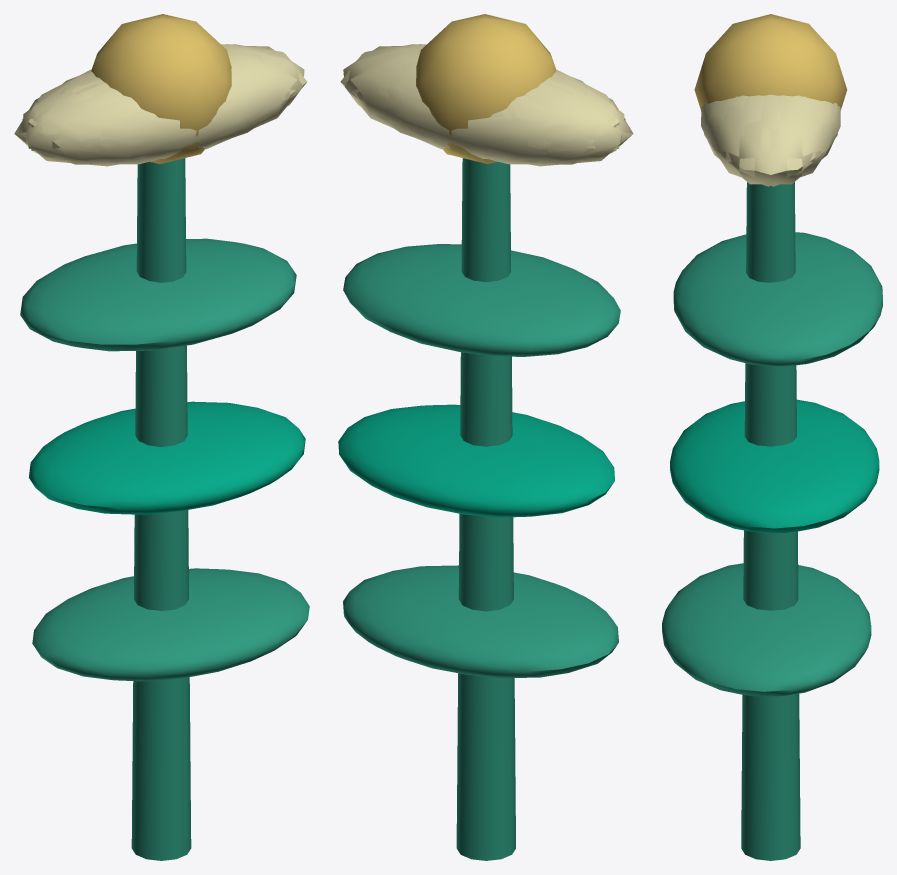
The model's file is maesa-perlarius.glb.
The picture shows the model from 3 angles, left to right: view 1: azimuth 30°, elevation 25°; view 2: azimuth 150°, elevation 25°; view 3: azimuth 270°, elevation 25°; orthographic projection.
Parts seen in each view (by area): view 1: stem, leaf2, leaf0, leaf1, center, petal6, petal2, petal1, petal5, petal7, petal0; view 2: stem, leaf2, leaf1, leaf0, center, petal3, petal7, petal8, petal4, petal2, petal0; view 3: stem, leaf2, leaf1, leaf0, center, petal0, petal5, petal4, petal8, petal1.
Part boxes in pixels (bbox=[...]): stem: bbox=[131, 158, 191, 860]; leaf2: bbox=[20, 238, 296, 351]; leaf0: bbox=[32, 568, 309, 681]; leaf1: bbox=[29, 401, 305, 514]; center: bbox=[91, 14, 231, 163]; petal6: bbox=[31, 82, 218, 164]; petal2: bbox=[23, 77, 167, 166]; petal1: bbox=[97, 62, 290, 162]; petal5: bbox=[156, 52, 307, 155]; petal7: bbox=[14, 71, 109, 157]; petal0: bbox=[225, 45, 304, 121]; stem: bbox=[456, 158, 515, 860]; leaf2: bbox=[343, 244, 620, 356]; leaf1: bbox=[338, 404, 614, 517]; leaf0: bbox=[343, 565, 618, 678]; center: bbox=[416, 14, 556, 163]; petal3: bbox=[429, 82, 616, 164]; petal7: bbox=[479, 77, 624, 166]; petal8: bbox=[357, 62, 550, 162]; petal4: bbox=[340, 52, 490, 155]; petal2: bbox=[538, 71, 633, 157]; petal0: bbox=[343, 45, 422, 138]; stem: bbox=[741, 182, 800, 860]; leaf2: bbox=[673, 232, 882, 366]; leaf1: bbox=[670, 399, 879, 533]; leaf0: bbox=[662, 563, 871, 696]; center: bbox=[694, 14, 847, 108]; petal0: bbox=[714, 94, 827, 184]; petal5: bbox=[704, 95, 782, 186]; petal4: bbox=[759, 95, 837, 186]; petal8: bbox=[793, 95, 840, 159]; petal1: bbox=[701, 95, 748, 159].
Size of the model in its own units: 0.1541 by 0.4303 by 0.1041.
